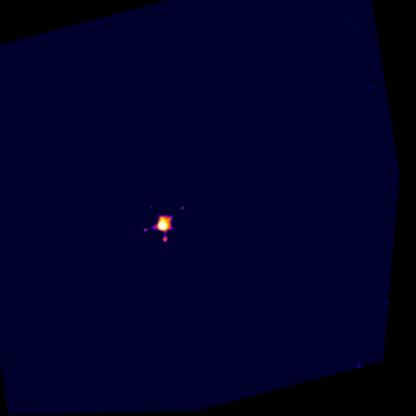drone: (140, 197, 195, 248)
